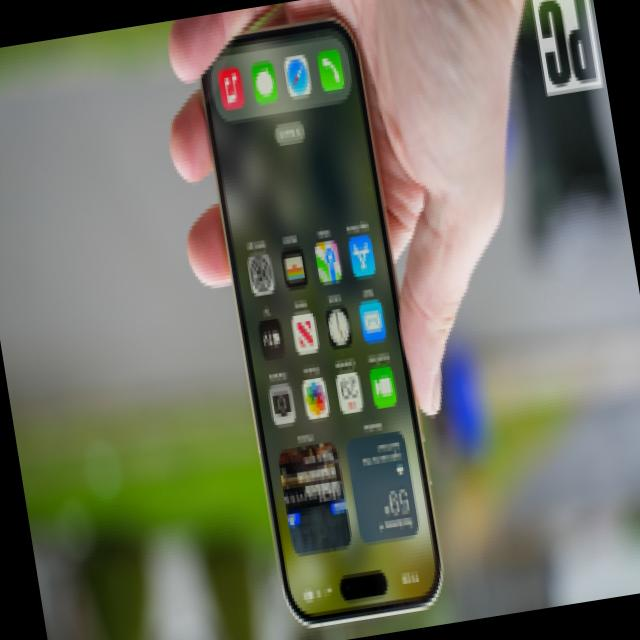mobile_phone: (153, 14, 466, 640)
